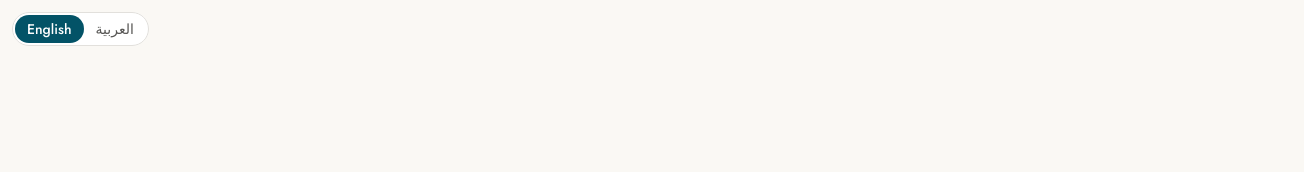
Test: LanguageSwitcher › marks the active language, labels each button in its own script, and switches
Click the button "العربية": [115, 29] box [84,15,146,43]
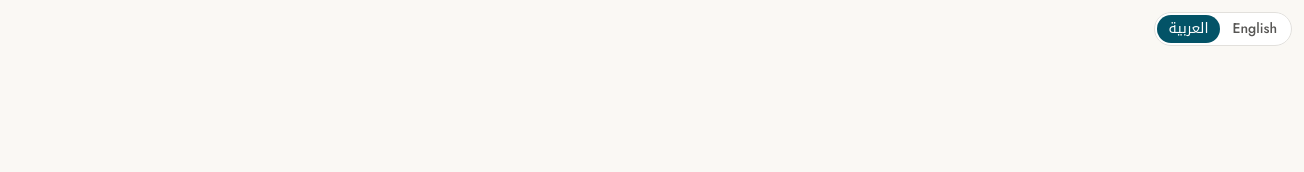
expect the element named "تغيير اللغة" is shown: met, box [1154,12,1292,46]
expect the button "العربية" is pressed: met, box [1157,15,1220,43]
